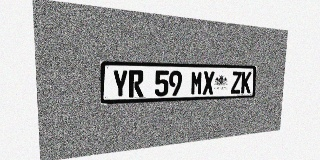5: (155, 70, 169, 96)
9: (169, 70, 182, 96)
K: (241, 72, 251, 93)
M: (190, 71, 203, 95)
R: (129, 70, 144, 97)
X: (202, 71, 214, 95)
Y: (112, 70, 128, 98)
Z: (231, 71, 242, 94)
